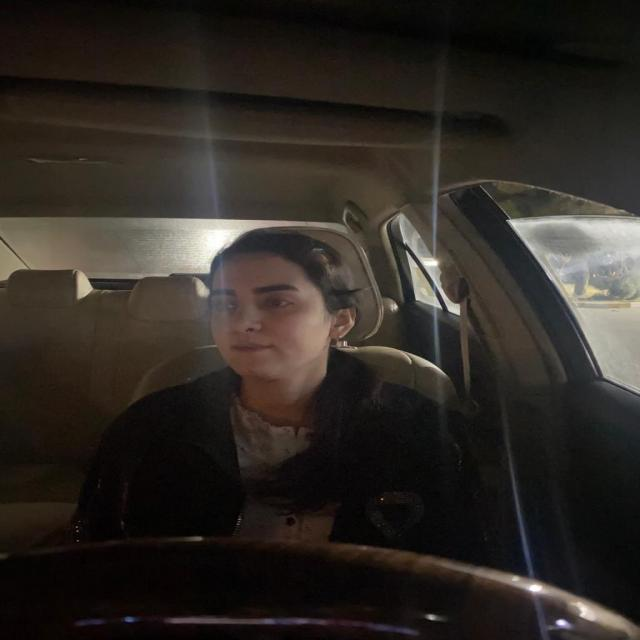LeftRight: (200, 220, 369, 388)
